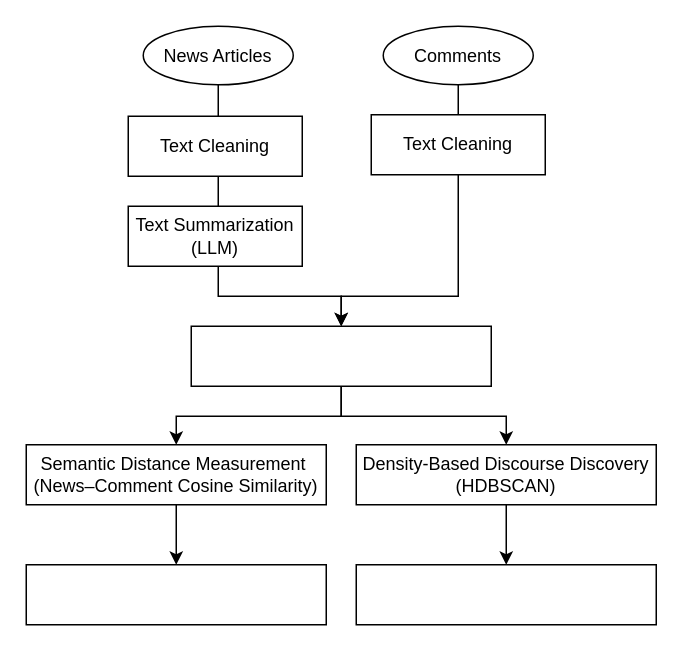
This 683x660 diagram has some shape labels left out. Each missing label, with the centre of its shape:
RQ1. Semantic Overlap RQ2. Category-wise Variance: the point at 175,594
RQ3. Audience Reaction Patterns: the point at 505,594
Text Embedding ( KPF-SBERT): the point at 340,355
